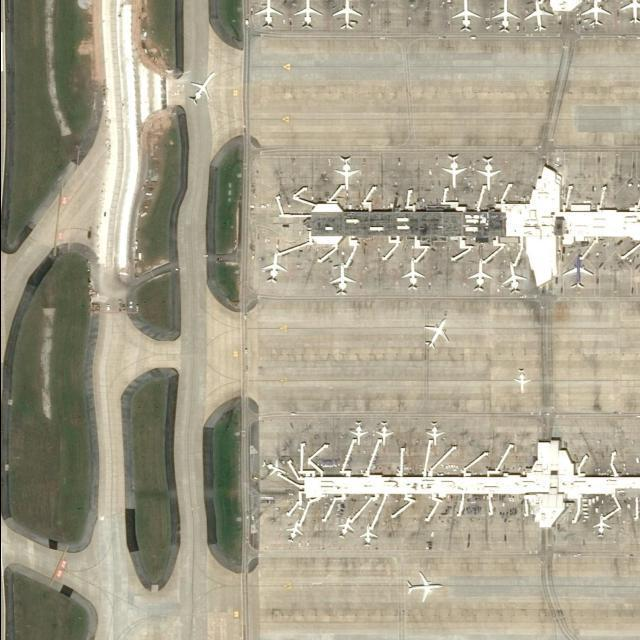Aircraft: (403, 569, 443, 603), (447, 0, 483, 34), (331, 150, 360, 191), (258, 248, 290, 285), (438, 150, 467, 190), (471, 153, 499, 193), (185, 70, 216, 106), (420, 316, 452, 350), (326, 0, 364, 28), (327, 261, 357, 296), (498, 260, 528, 294), (522, 0, 552, 34), (490, 0, 519, 35), (464, 257, 491, 293), (253, 1, 284, 31), (398, 257, 426, 290), (578, 0, 612, 27), (292, 1, 322, 29), (421, 421, 444, 447), (346, 417, 368, 444), (510, 367, 531, 395), (332, 514, 354, 540), (372, 420, 394, 446), (356, 523, 378, 547), (618, 1, 640, 25), (284, 520, 304, 544), (592, 513, 610, 535)
